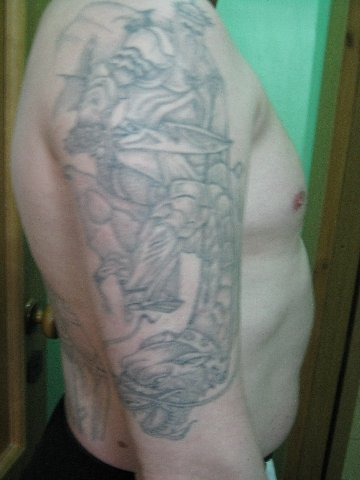tatu6_drakon: (30, 2, 270, 442)
